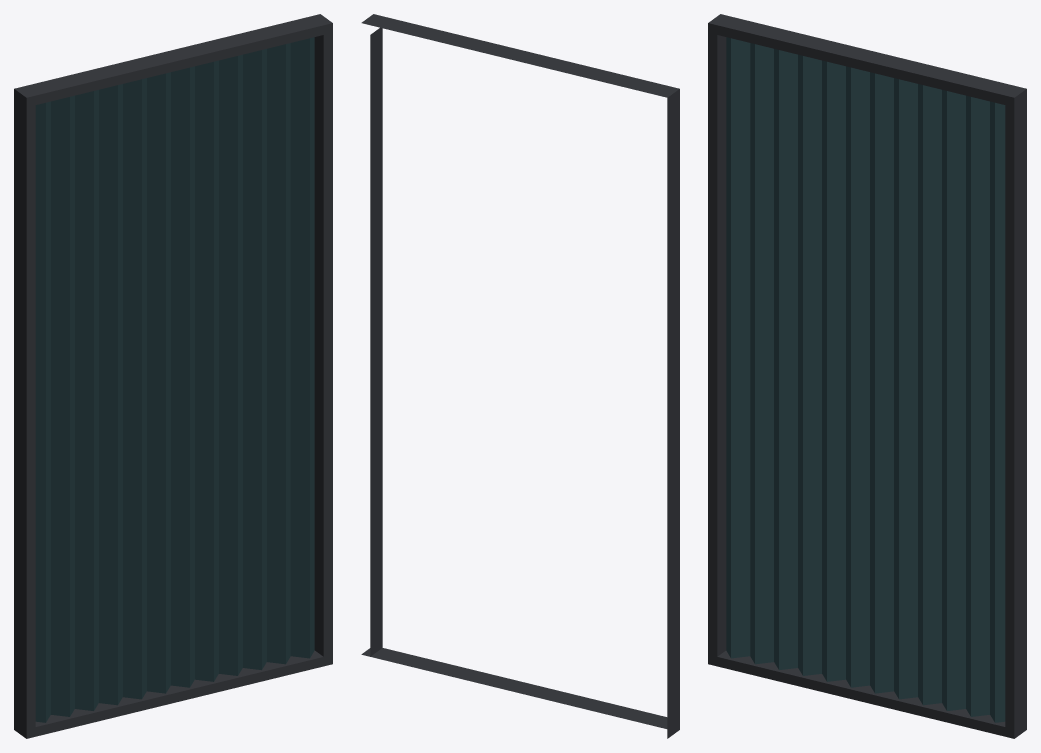
Rendered from WallPanel_Acoustic.glb.
3 renders of one model, left to right at view 1: azimuth 30°, elevation 25°; view 2: azimuth 150°, elevation 25°; view 3: azimuth 330°, elevation 25°, orthographic.
Parts seen in each view (by area): view 1: WallPanel_Acoustic; view 2: WallPanel_Acoustic; view 3: WallPanel_Acoustic.
Boxes of the visible parts, box(x1,y1,x2,y2) form: WallPanel_Acoustic: box(14, 14, 332, 738); WallPanel_Acoustic: box(361, 14, 679, 738); WallPanel_Acoustic: box(708, 14, 1026, 738).
Size of what is drawn, in the model's own units: 1 by 2 by 0.07.
